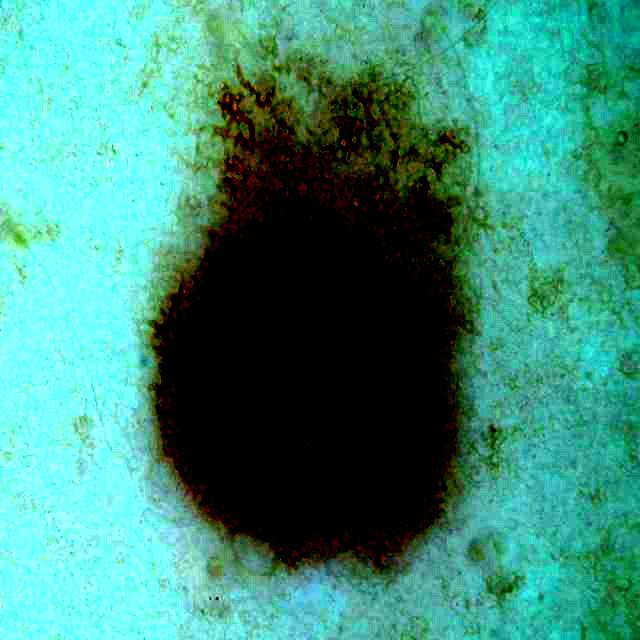MEL: (157, 71, 464, 558)
